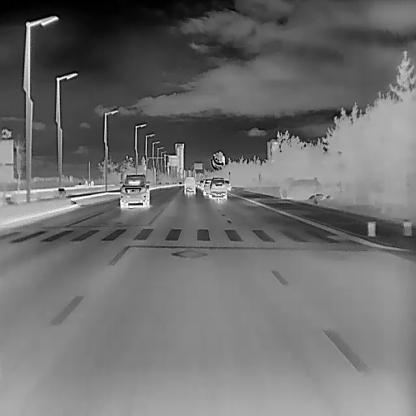car: (118, 174, 150, 208), (208, 176, 226, 199), (184, 176, 194, 194), (202, 180, 212, 195), (198, 179, 206, 190), (223, 180, 230, 192)
